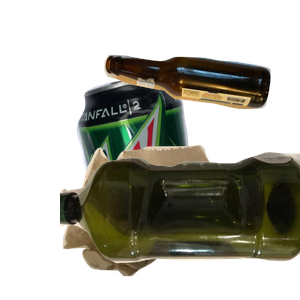glass: (101, 52, 300, 154)
metal: (74, 74, 257, 254)
plastic: (60, 149, 300, 300)
trash: (60, 142, 300, 300)
